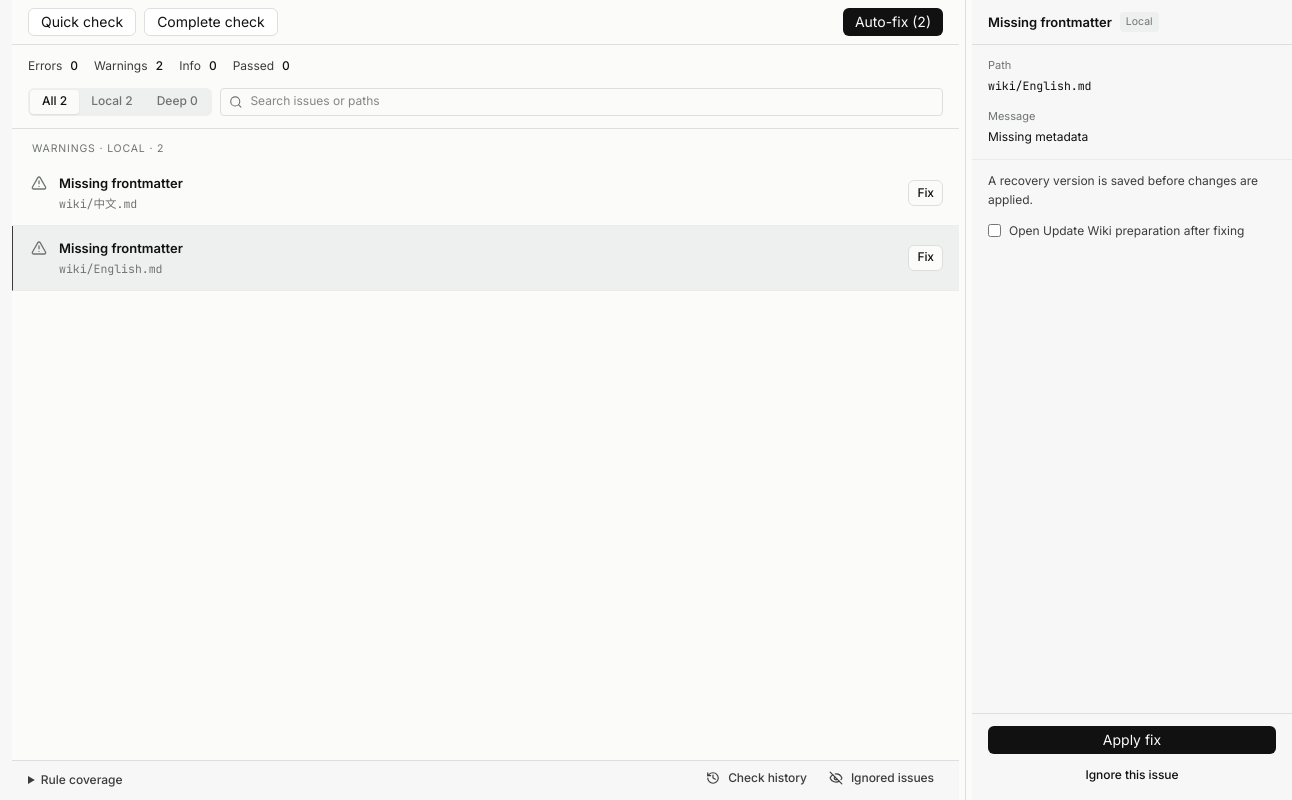
Test: LintView › searches localized issue labels and paths, scopes batch fixes, and clears a hidden detail
Type "中文" into the search field labelled "Search issues or paths". click: (592, 102)
box: [250,92,934,111]
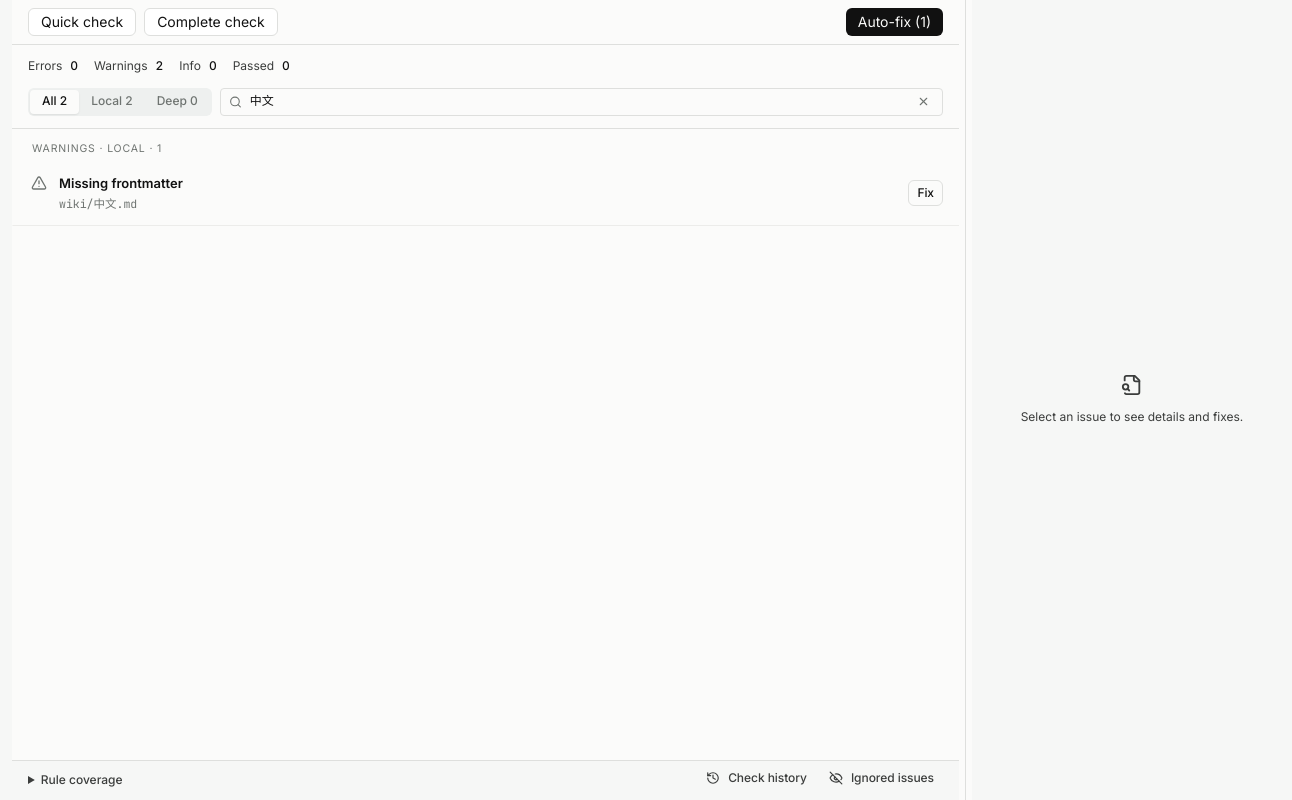
Expected: the button "Auto-fix (1)" is enabled, [846,8,943,36]
Now the number of buttons with class "issue-card" is 1, box [13,161,908,225]
Replace the text in the search field named "Search issues or paths" with "not present". click: (577, 102)
box: [250,92,904,111]
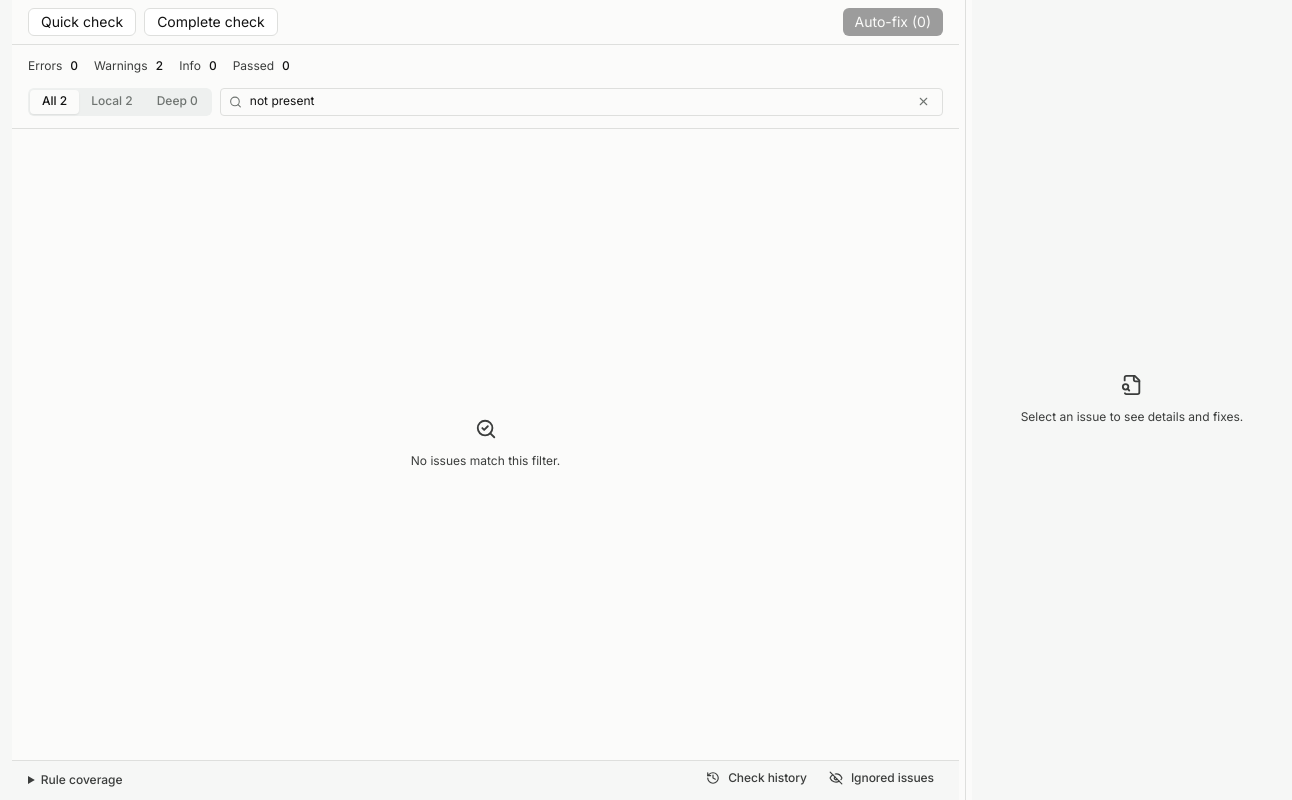
Now the text "No issues match this filter." is shown, box [411,452,560,471]
Now the button "Auto-fix (0)" is disabled, box [843,8,943,36]
Click the button named "Clear search". click: (923, 102)
box: [912,91,934,113]
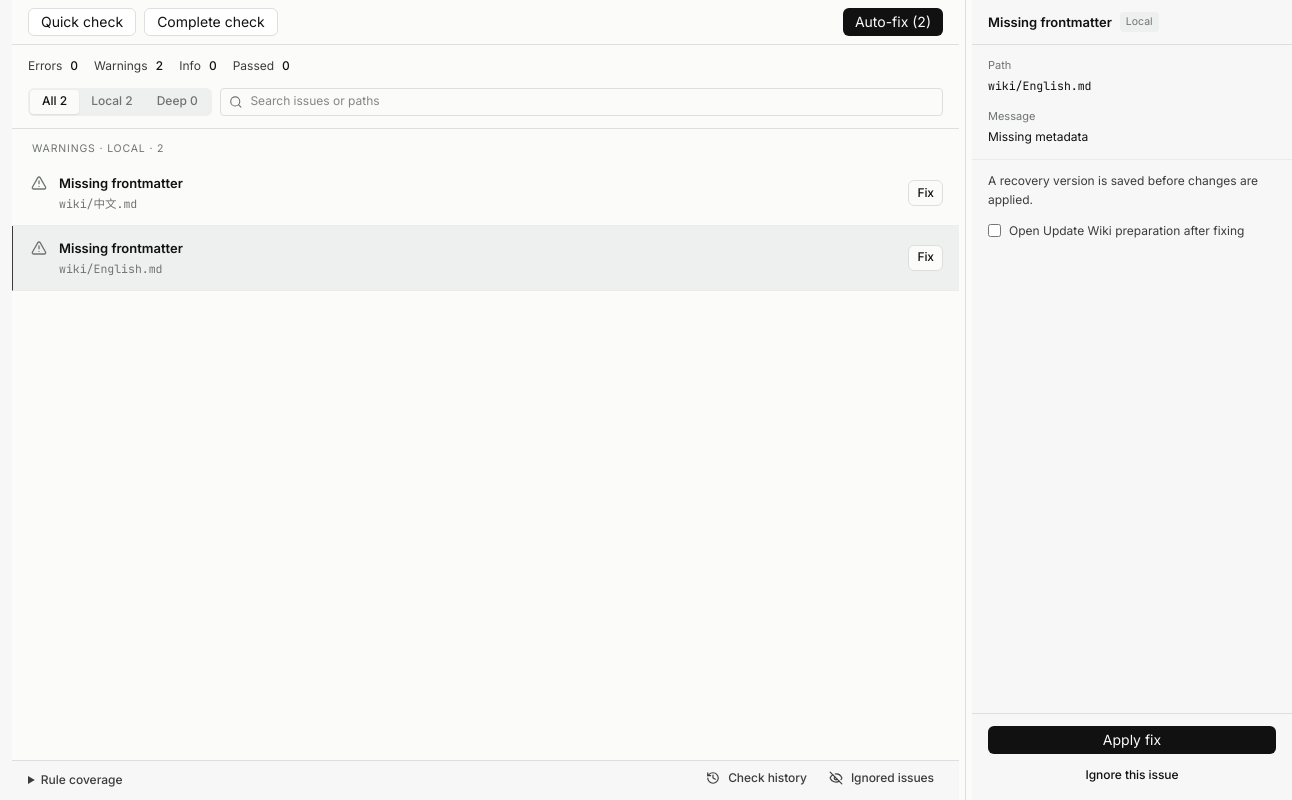
Now the number of buttons with class "issue-card" is 2, box [13,161,908,225]; [13,226,908,290]
